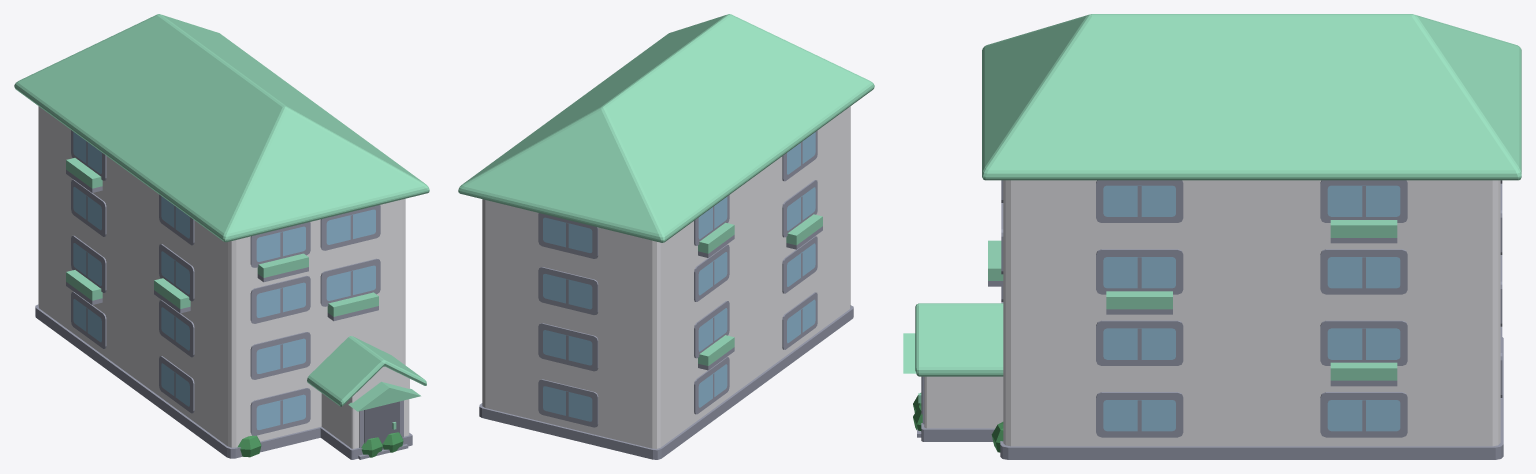
Rendered from house-1x2-4f-mansard-a.glb.
3 renders of one model, left to right at view 1: azimuth 30°, elevation 25°; view 2: azimuth 150°, elevation 25°; view 3: azimuth 270°, elevation 25°, orthographic. The views are drawn at different scales.
Visible parts, largest first — view 1: house-1x2-4f-mansard-a; view 2: house-1x2-4f-mansard-a; view 3: house-1x2-4f-mansard-a.
Boxes of the visible parts, x1,y1,x2,y2 form: house-1x2-4f-mansard-a: (14, 14, 429, 459); house-1x2-4f-mansard-a: (458, 14, 874, 459); house-1x2-4f-mansard-a: (903, 14, 1521, 459).
Size of the model in its own units: 1 by 1.42 by 2.04.
Materials: 1 (1 with a texture image).
